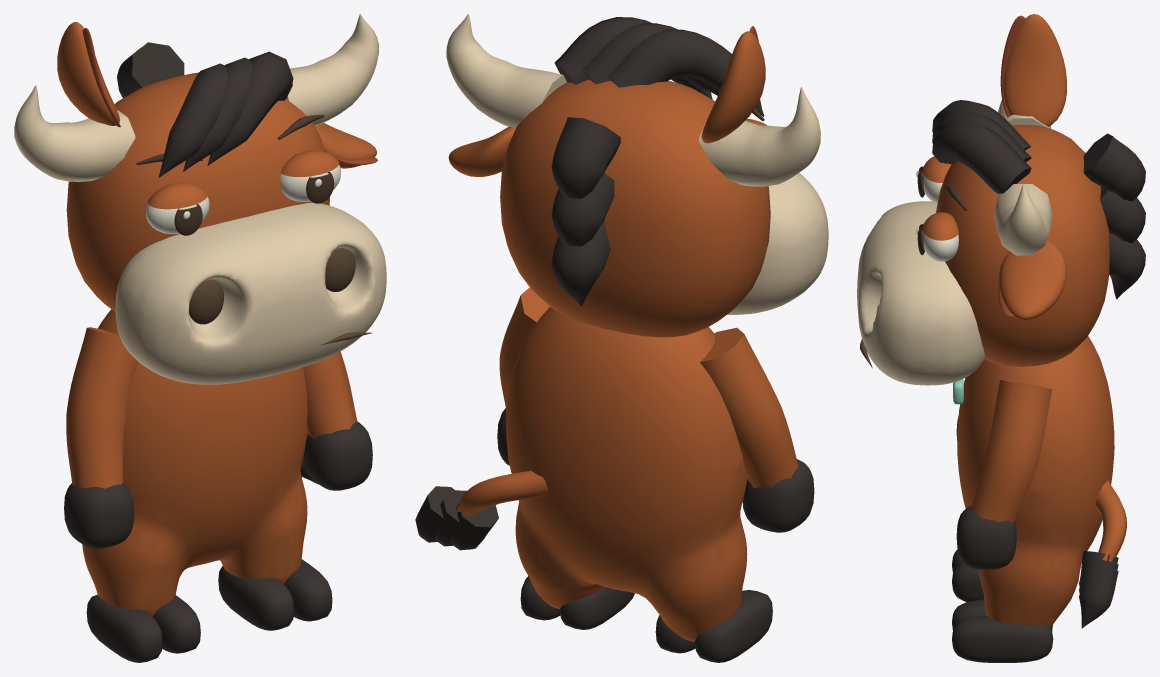
Rendered from niuma.glb.
3 renders of one model, left to right at view 1: azimuth 30°, elevation 25°; view 2: azimuth 150°, elevation 25°; view 3: azimuth 270°, elevation 25°, orthographic. The views are drawn at different scales.
Parts seen in each view (by area): view 1: SeamlessBody, SculptedMuzzle, Head, Arm_-1, Horn_-1, Horn_1, Hand_-1, Forelock_0, Hand_1, Hoof_-1_-1, Arm_1, EarOuter_0 (+16 smaller); view 2: SeamlessBody, Head, Arm_-1, SculptedMuzzle, Horn_-1, Horn_1, Forelock_0, Mane_0, EarOuter_0, Hand_-1, Hoof_-1_-1, Mane_1 (+12 smaller); view 3: SeamlessBody, Head, SculptedMuzzle, Arm_1, EarOuter_0, Forelock_2, EarOuter_1, Hoof_1_1, Horn_1, Hand_1, Mane_0, TailTuft_2 (+11 smaller).
Boxes of the visible parts, x1,y1,x2,y2 form: SeamlessBody: (82, 309, 307, 616); SculptedMuzzle: (115, 202, 386, 384); Head: (66, 72, 329, 311); Arm_-1: (66, 327, 137, 488); Horn_-1: (14, 85, 135, 181); Horn_1: (287, 14, 378, 125); Hand_-1: (64, 483, 133, 548); Forelock_0: (158, 63, 228, 177); Hand_1: (303, 421, 372, 490); Hoof_-1_-1: (86, 594, 162, 662); Arm_1: (303, 351, 357, 438); EarOuter_0: (57, 22, 119, 125); SeamlessBody: (506, 307, 747, 641); Head: (500, 79, 770, 337); Arm_-1: (700, 327, 798, 487); SculptedMuzzle: (727, 173, 828, 314); Horn_-1: (699, 87, 820, 186); Horn_1: (446, 14, 566, 127); Forelock_0: (608, 29, 764, 116); Mane_0: (551, 117, 620, 198); EarOuter_0: (701, 31, 765, 143); Hand_-1: (742, 459, 814, 532); Hoof_-1_-1: (695, 590, 772, 662); Mane_1: (551, 173, 614, 246); SeamlessBody: (957, 336, 1114, 627); Head: (936, 125, 1109, 366); SculptedMuzzle: (857, 201, 985, 385); Arm_1: (970, 379, 1052, 522); EarOuter_0: (1003, 14, 1066, 126); Forelock_2: (932, 121, 1031, 193); EarOuter_1: (999, 240, 1066, 320); Hoof_1_1: (952, 616, 1053, 662); Horn_1: (994, 184, 1052, 255); Hand_1: (956, 505, 1016, 569); Mane_0: (1083, 133, 1145, 201); TailTuft_2: (1079, 564, 1118, 628).
Bounding box in the file's own units: 2.35 × 3.88 × 1.82.
